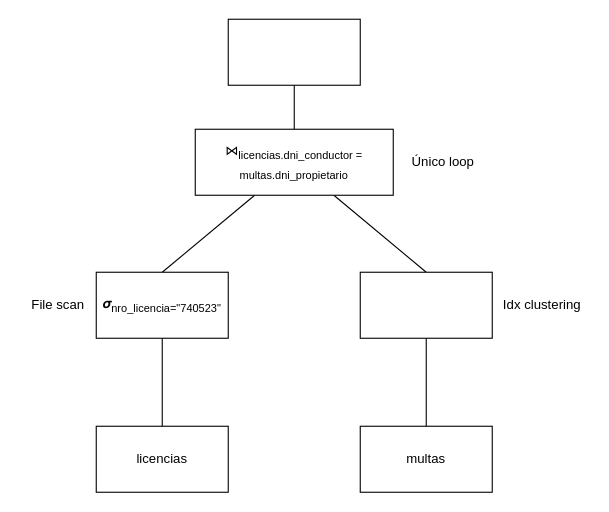
Image size: 609x512. Some labels were removed from this diagram. The shapes that lost their labels are listed below. From the top down, each one's centre as x and y in pixels, then its label:
At point (293, 51): "𝜋 licencias,multas".
At point (425, 304): "𝝈 pagada=FALSE".
